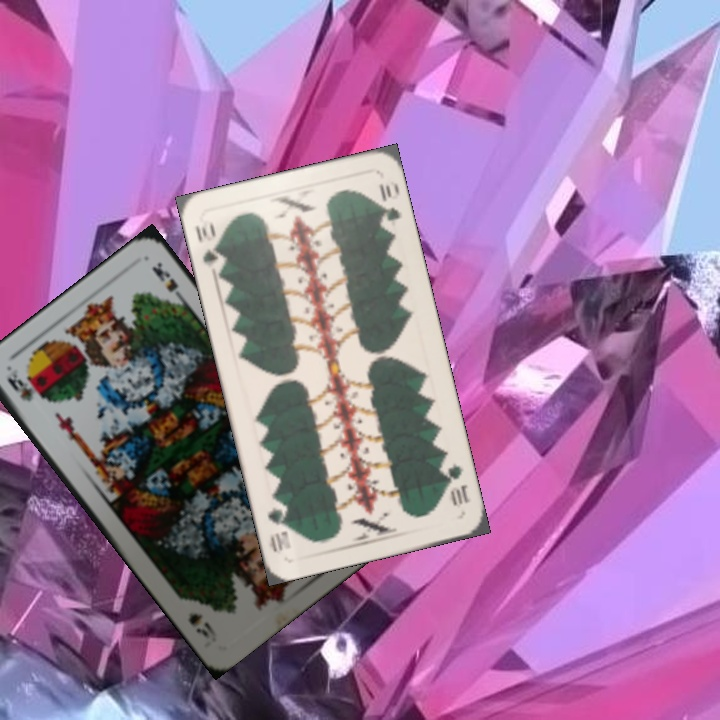G10: (437, 456, 473, 511), (191, 215, 224, 266)
SK: (3, 365, 37, 405)
